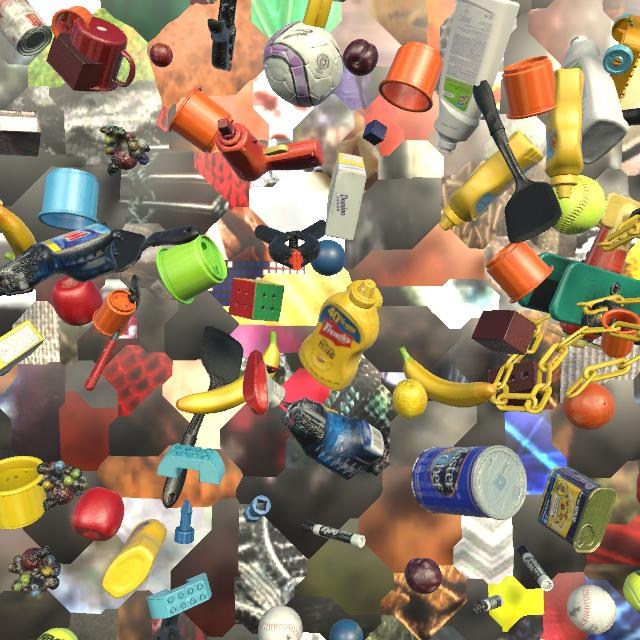ycb_002_master_chef_can: (411, 445, 527, 520)
ycb_004_sugar_box: (325, 153, 367, 241), (0, 320, 45, 375)
ycb_005_tomato_soup_can: (0, 0, 52, 56)
ycb_006_mustard_bottle: (439, 131, 544, 231), (299, 279, 379, 391), (544, 68, 584, 199), (102, 519, 167, 598)
ycb_008_pudding_box: (0, 109, 41, 156)
ycb_009_gelatin_box: (523, 491, 527, 503)
ycb_010_potted_meat_can: (537, 466, 617, 553)
ycb_011_banana: (176, 331, 280, 414), (398, 347, 495, 408), (0, 206, 36, 261), (302, 0, 332, 29)
ycb_013_apple: (71, 487, 124, 541), (51, 276, 104, 326), (636, 472, 640, 504)
ycb_014_lemon: (392, 379, 427, 419), (346, 280, 383, 312)
ycb_017_orange: (563, 382, 615, 430)
ycb_018_plum: (405, 558, 442, 594), (343, 39, 378, 76)
